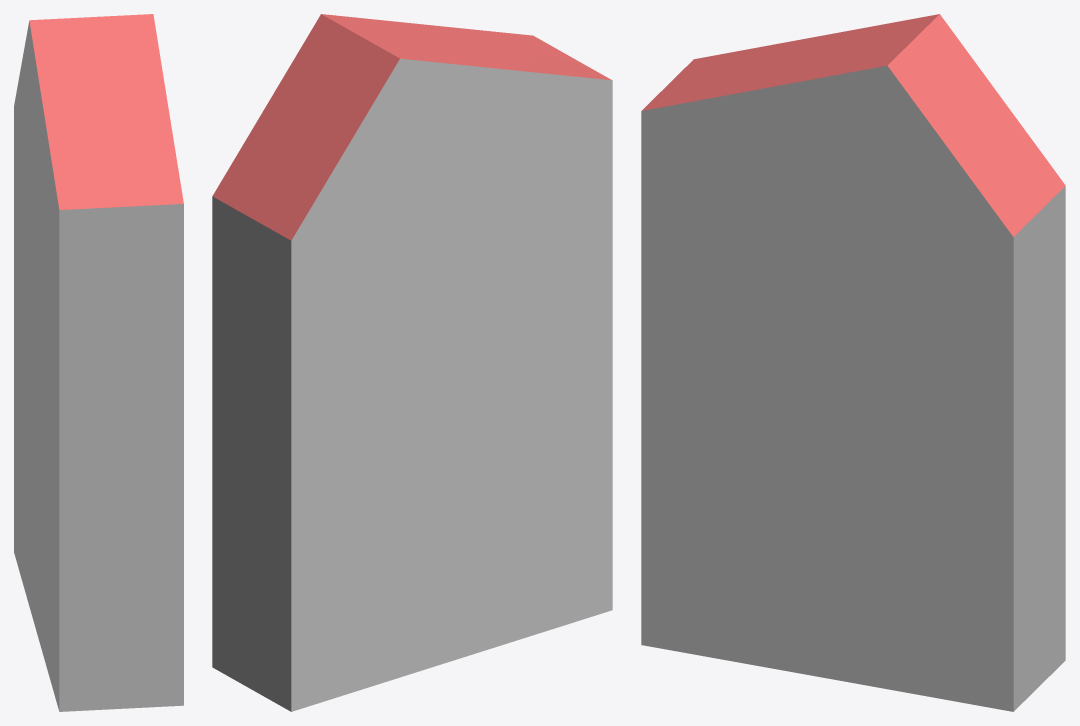
File: DEBY_LOD2_4907012.gltf
3 views of the same model, side by side, from view 1: azimuth 30°, elevation 25°; view 2: azimuth 150°, elevation 25°; view 3: azimuth 270°, elevation 25° (orthographic). The views are drawn at different scales.
Visible parts, largest first — view 1: Z_UP; view 2: Z_UP; view 3: Z_UP.
Boxes of the visible parts, x1,y1,x2,y2 form: Z_UP: (14,14,183,711); Z_UP: (212,14,612,711); Z_UP: (641,14,1065,711).
Size of the model in its own units: 8.66 by 21.2 by 13.08.
